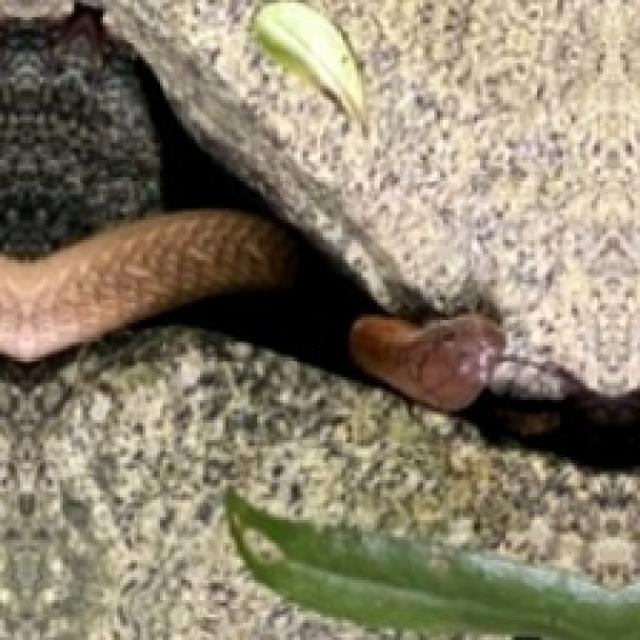king cobra: (0, 0, 637, 466)
